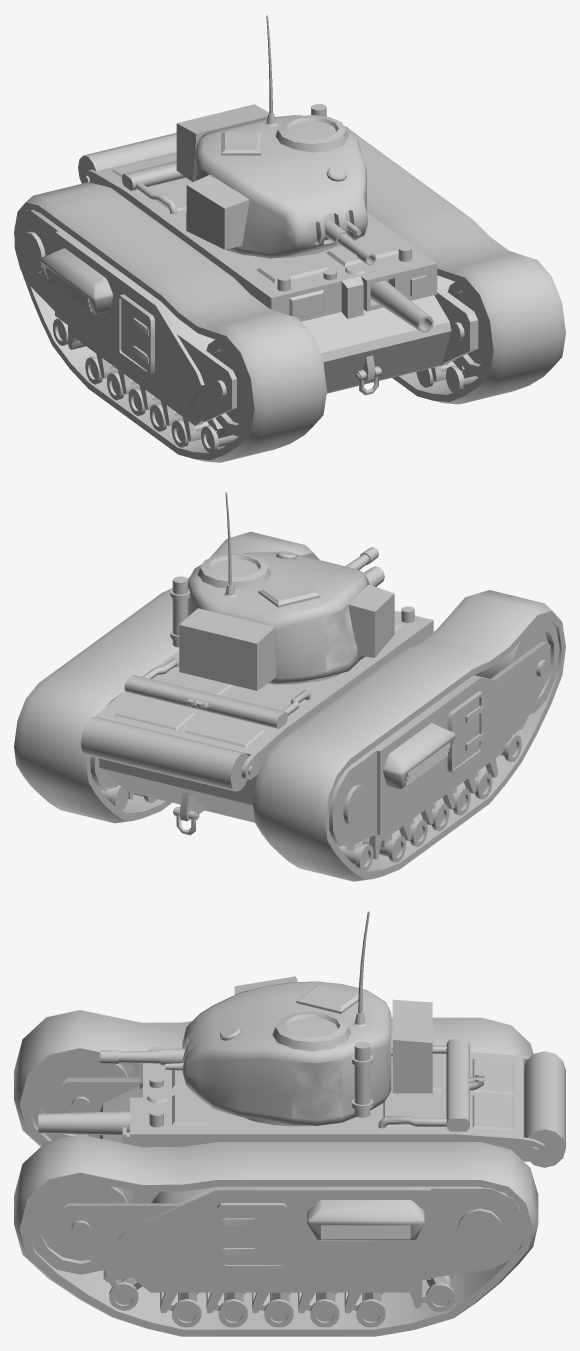
File: MediumTank03.FBX
The picture shows the model from 3 angles, top to bottom: view 1: azimuth 30°, elevation 25°; view 2: azimuth 150°, elevation 25°; view 3: azimuth 270°, elevation 25°; orthographic projection. The views are drawn at different scales.
Parts seen in each view (by area): view 1: MediumTank03_Chassis, MediumTank03_Track_Right, MediumTank03_Turret, MediumTank03_Track_Left, MediumTank03_Wheel_Right_01, MediumTank03_Wheel_Left_01, MediumTank03_Cannon; view 2: MediumTank03_Chassis, MediumTank03_Track_Right, MediumTank03_Turret, MediumTank03_Track_Left, MediumTank03_Wheel_Right_01, MediumTank03_Symbol, MediumTank03_Wheel_Right_08, MediumTank03_Wheel_Right_07; view 3: MediumTank03_Chassis, MediumTank03_Track_Left, MediumTank03_Turret, MediumTank03_Track_Right, MediumTank03_Wheel_Left_01, MediumTank03_Symbol, MediumTank03_Wheel_Right_01, MediumTank03_Cannon, MediumTank03_Wheel_Left_08, MediumTank03_Wheel_Left_05, MediumTank03_Wheel_Left_06, MediumTank03_Wheel_Left_04 (+3 smaller).
Boxes of the visible parts, left/top/right/bottom form: MediumTank03_Chassis: left=14, top=133, right=478, bottom=441; MediumTank03_Track_Right: left=14, top=182, right=326, bottom=462; MediumTank03_Turret: left=176, top=14, right=367, bottom=258; MediumTank03_Track_Left: left=350, top=130, right=565, bottom=404; MediumTank03_Wheel_Right_01: left=206, top=339, right=250, bottom=436; MediumTank03_Wheel_Left_01: left=448, top=281, right=489, bottom=376; MediumTank03_Cannon: left=324, top=220, right=376, bottom=265; MediumTank03_Chassis: left=80, top=566, right=550, bottom=859; MediumTank03_Track_Right: left=253, top=590, right=565, bottom=881; MediumTank03_Turret: left=170, top=491, right=394, bottom=690; MediumTank03_Track_Left: left=14, top=531, right=319, bottom=823; MediumTank03_Wheel_Right_01: left=475, top=619, right=559, bottom=714; MediumTank03_Symbol: left=324, top=602, right=357, bottom=670; MediumTank03_Wheel_Right_08: left=338, top=844, right=373, bottom=871; MediumTank03_Wheel_Right_07: left=362, top=835, right=405, bottom=862; MediumTank03_Chassis: left=38, top=1039, right=565, bottom=1313; MediumTank03_Track_Left: left=14, top=1134, right=538, bottom=1336; MediumTank03_Turret: left=182, top=910, right=432, bottom=1126; MediumTank03_Track_Right: left=14, top=1010, right=533, bottom=1146; MediumTank03_Wheel_Left_01: left=28, top=1180, right=133, bottom=1274; MediumTank03_Symbol: left=292, top=1060, right=342, bottom=1119; MediumTank03_Wheel_Right_01: left=28, top=1056, right=133, bottom=1140; MediumTank03_Cannon: left=100, top=1048, right=185, bottom=1065; MediumTank03_Wheel_Left_08: left=426, top=1275, right=454, bottom=1311; MediumTank03_Wheel_Left_05: left=264, top=1292, right=293, bottom=1327; MediumTank03_Wheel_Left_06: left=310, top=1292, right=339, bottom=1327; MediumTank03_Wheel_Left_04: left=218, top=1292, right=247, bottom=1327.
Size of the model in its own units: 4.81 by 4.3 by 5.97.
